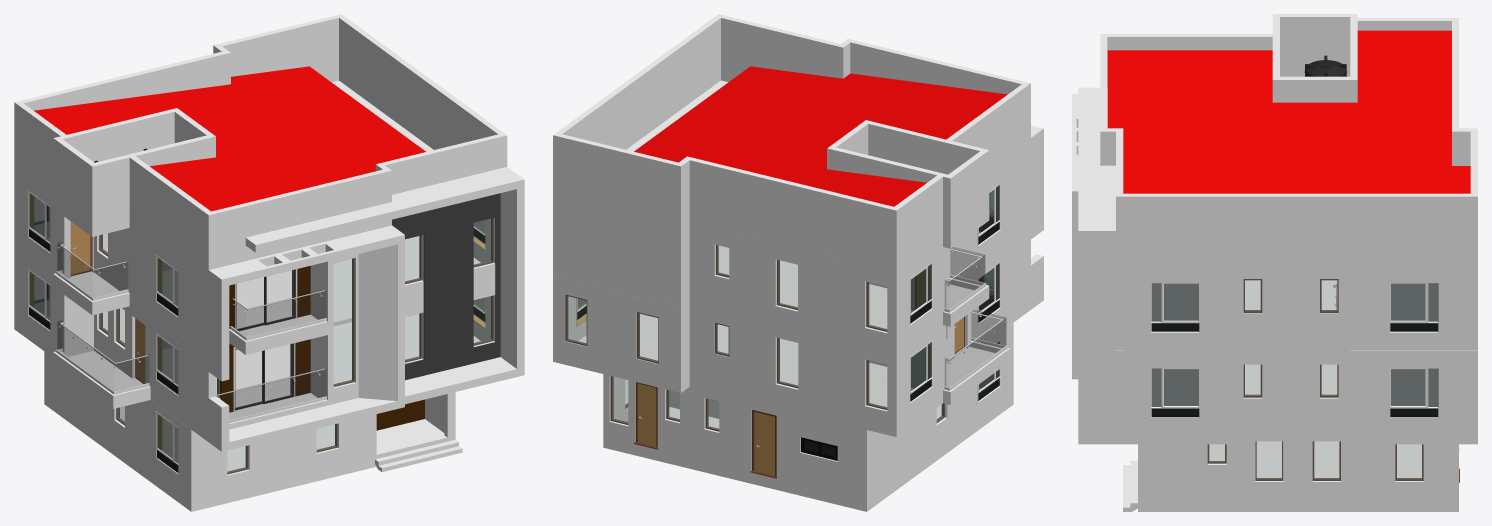
File: Dun7.glb
The picture shows the model from 3 angles, left to right: view 1: azimuth 30°, elevation 25°; view 2: azimuth 150°, elevation 25°; view 3: azimuth 270°, elevation 25°; orthographic projection. The views are drawn at different scales.
Visible parts, largest first — view 1: FootPrintRoof Roofs <1654541 Generic Roof - 300mm<, FamilyInstance Casework Casework 2 <1657010 Casework 2<, FamilyInstance Casework Casework 1 <1655049 Casework 1<, Wall Walls <1542127 230 DARK GREY<, Wall Walls <1652191 230<, Wall Walls <1542121 230 DARK GREY<, Wall Walls <1652209 230<, Floor Floors <1551401 Generic 150mm<, Floor Floors <1551423 Generic 150mm<, FamilyInstance Windows Aluminum_Exterior_Window_-_1_wide_x_2 (×5), Wall Walls <1652215 230<, Wall Walls <1550756 230< (+41 smaller); view 2: FootPrintRoof Roofs <1654541 Generic Roof - 300mm<, Wall Walls <1542109 230 DARK GREY<, Wall Walls <1546883 230<, Wall Walls <1550750 230<, Wall Walls <1652268 230<, Wall Walls <1609183 230<, Wall Walls <1611899 230<, Wall Walls <1652191 230<, Wall Walls <1652167 230<, Wall Walls <1542121 230 DARK GREY<, FamilyInstance Windows Aluminum_Exterior_Window_-_1_wide_x_2 (×7), Wall Walls <1652197 230< (+30 smaller); view 3: FootPrintRoof Roofs <1654541 Generic Roof - 300mm<, Wall Walls <1652191 230<, Wall Walls <1542115 230 DARK GREY<, FamilyInstance Casework Casework 2 <1657010 Casework 2<, Wall Walls <1546889 230 DARK GREY<, Wall Walls <1577888 230<, Wall Walls <1606578 230<, Wall Walls <1577620 230<, Wall Walls <1583614 230<, Wall Walls <1550786 230 DARK GREY<, FamilyInstance Windows Aluminum_Exterior_Window_-_1_wide_x_2 (×7), Floor Floors <1551401 Generic 150mm< (+25 smaller).
Part boxes in pixels (x1,y1,x2,y2): FootPrintRoof Roofs <1654541 Generic Roof - 300mm<: (34,66,425,211); FamilyInstance Casework Casework 2 <1657010 Casework 2<: (245,167,524,404); FamilyInstance Casework Casework 1 <1655049 Casework 1<: (208,225,404,451); Wall Walls <1542127 230 DARK GREY<: (197,393,449,510); Wall Walls <1652191 230<: (339,16,507,167); Wall Walls <1542121 230 DARK GREY<: (47,354,197,511); Wall Walls <1652209 230<: (211,169,386,268); Floor Floors <1551401 Generic 150mm<: (47,308,480,419); Floor Floors <1551423 Generic 150mm<: (47,233,480,336); FamilyInstance Windows Aluminum_Exterior_Window_-_1_wide_x_2 (×5): (333,218,493,386); Wall Walls <1652215 230<: (129,156,214,277); Wall Walls <1550756 230<: (94,220,191,342); FootPrintRoof Roofs <1654541 Generic Roof - 300mm<: (634,66,1007,206); Wall Walls <1542109 230 DARK GREY<: (603,374,870,511); Wall Walls <1546883 230<: (689,301,899,437); Wall Walls <1550750 230<: (689,223,890,349); Wall Walls <1652268 230<: (684,156,893,271); Wall Walls <1609183 230<: (553,198,675,305); Wall Walls <1611899 230<: (553,276,684,392); Wall Walls <1652191 230<: (556,14,723,149); Wall Walls <1652167 230<: (553,133,684,228); Wall Walls <1542121 230 DARK GREY<: (870,323,1013,508); FamilyInstance Windows Aluminum_Exterior_Window_-_1_wide_x_2 (×7): (565,259,887,424); Wall Walls <1652197 230<: (721,15,840,81); FootPrintRoof Roofs <1654541 Generic Roof - 300mm<: (1107,30,1470,193); Wall Walls <1652191 230<: (1116,193,1470,273); Wall Walls <1542115 230 DARK GREY<: (1138,441,1451,511); FamilyInstance Casework Casework 2 <1657010 Casework 2<: (1078,87,1115,444); Wall Walls <1546889 230 DARK GREY<: (1243,347,1350,441); Wall Walls <1577888 230<: (1123,350,1243,444); Wall Walls <1606578 230<: (1116,265,1243,350); Wall Walls <1577620 230<: (1357,350,1470,444); Wall Walls <1583614 230<: (1350,265,1470,350); Wall Walls <1550786 230 DARK GREY<: (1243,273,1350,347); FamilyInstance Windows Aluminum_Exterior_Window_-_1_wide_x_2 (×7): (1243,279,1423,480); Floor Floors <1551401 Generic 150mm<: (1152,364,1437,406).
Size of the model in its own units: 13.77 by 11.85 by 12.92.
